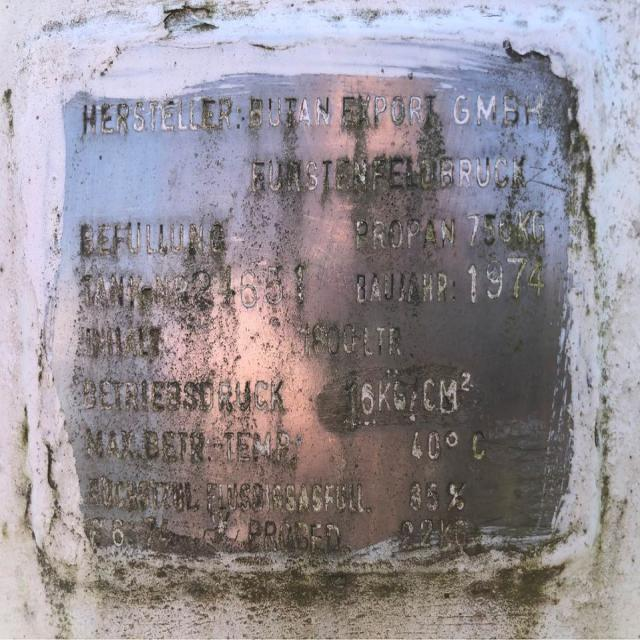ocr: (247, 149, 532, 204), (75, 257, 309, 322), (352, 252, 546, 313), (76, 373, 293, 426), (350, 202, 552, 255), (78, 420, 292, 470), (202, 476, 370, 524), (81, 92, 236, 143), (74, 217, 227, 266), (346, 369, 476, 422), (71, 316, 169, 372), (88, 473, 200, 521), (295, 321, 407, 368), (242, 518, 350, 560), (453, 88, 552, 133), (342, 89, 440, 133), (404, 425, 488, 471), (394, 510, 472, 559), (246, 91, 332, 130), (407, 477, 472, 523)
